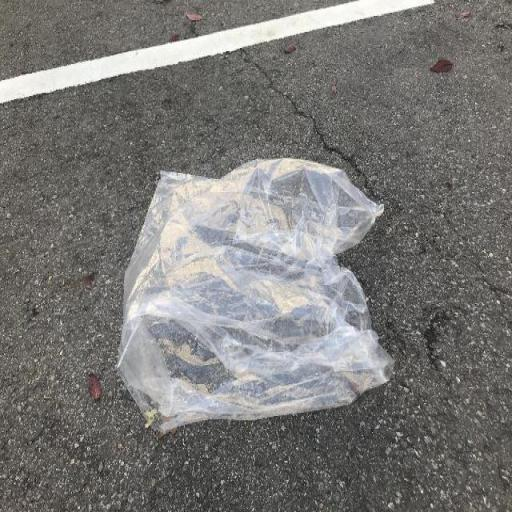plastic-bag: (113, 156, 397, 440)
